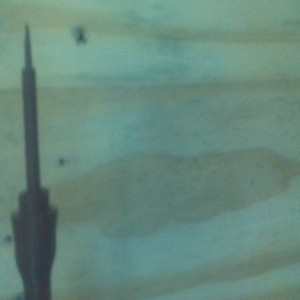solder: (10, 22, 59, 300)
